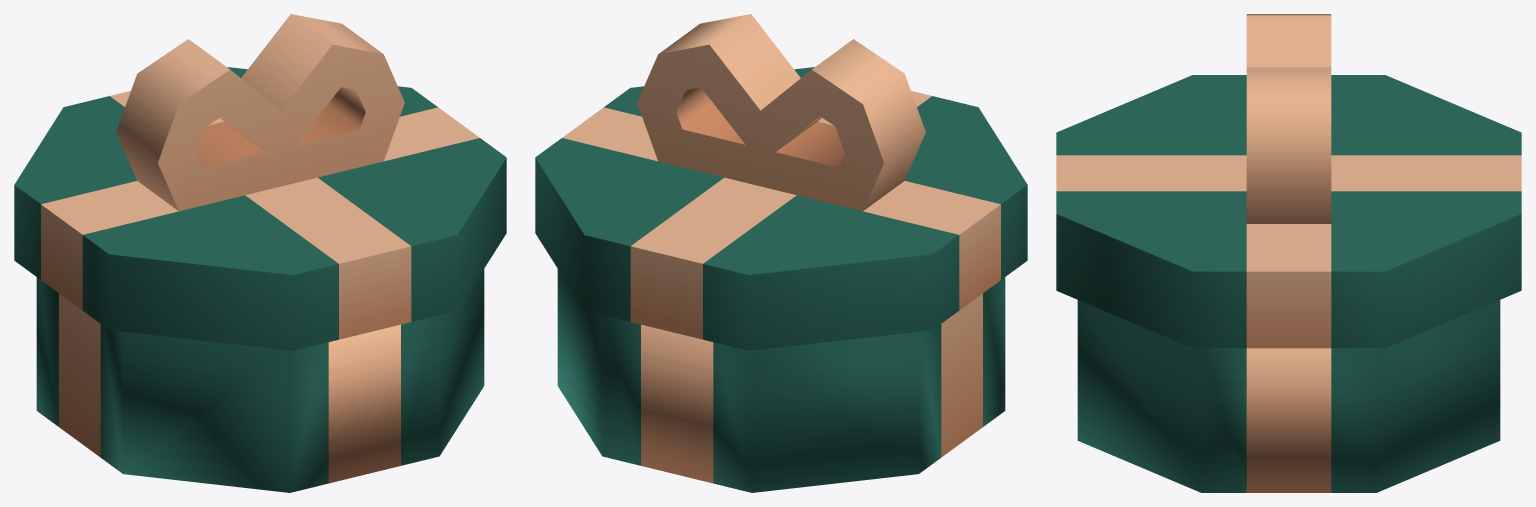
File: present_green_round.glb
The picture shows the model from 3 angles, left to right: view 1: azimuth 30°, elevation 25°; view 2: azimuth 150°, elevation 25°; view 3: azimuth 270°, elevation 25°; orthographic projection.
Visible parts, largest first — view 1: present-b-round; view 2: present-b-round; view 3: present-b-round.
Boxes of the visible parts, x1,y1,x2,y2 form: present-b-round: [14, 14, 506, 492]; present-b-round: [535, 14, 1027, 492]; present-b-round: [1056, 14, 1521, 492].
Size of the model in its own units: 0.5489 by 0.4707 by 0.5489.
Materials: 1 (1 with a texture image).
